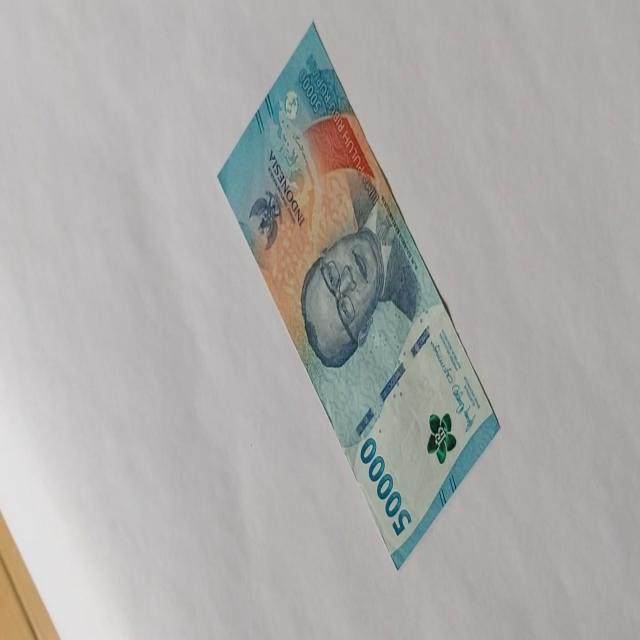lima puluh ribu rupiah: (215, 19, 500, 570), (358, 434, 412, 538)
